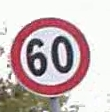limite 60: (7, 16, 89, 96)
